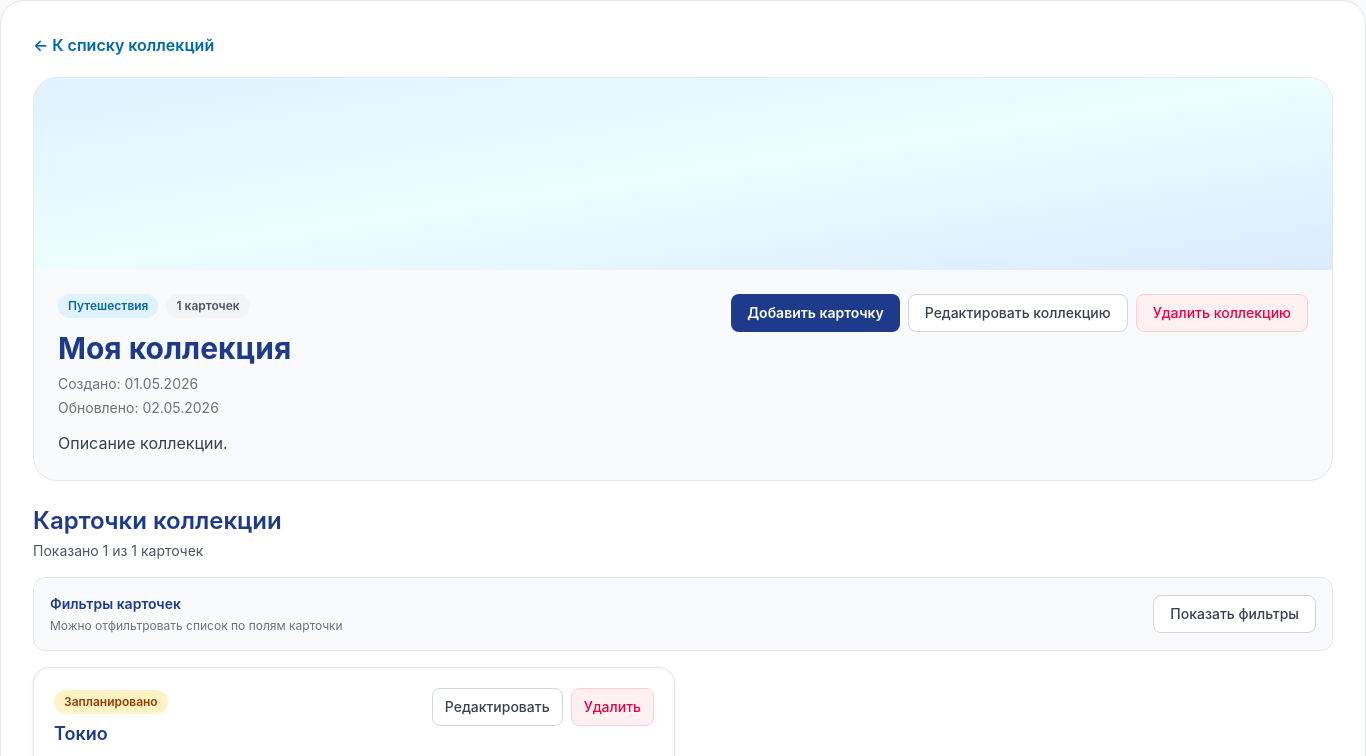
Test: CollectionDetailPage › deletes entry after confirmation and refreshes queries
expect the heading "Моя коллекция" is shown: met, box [58,330,291,366]
Click the button "Удалить" at (612, 707), box [571,688,654,726]
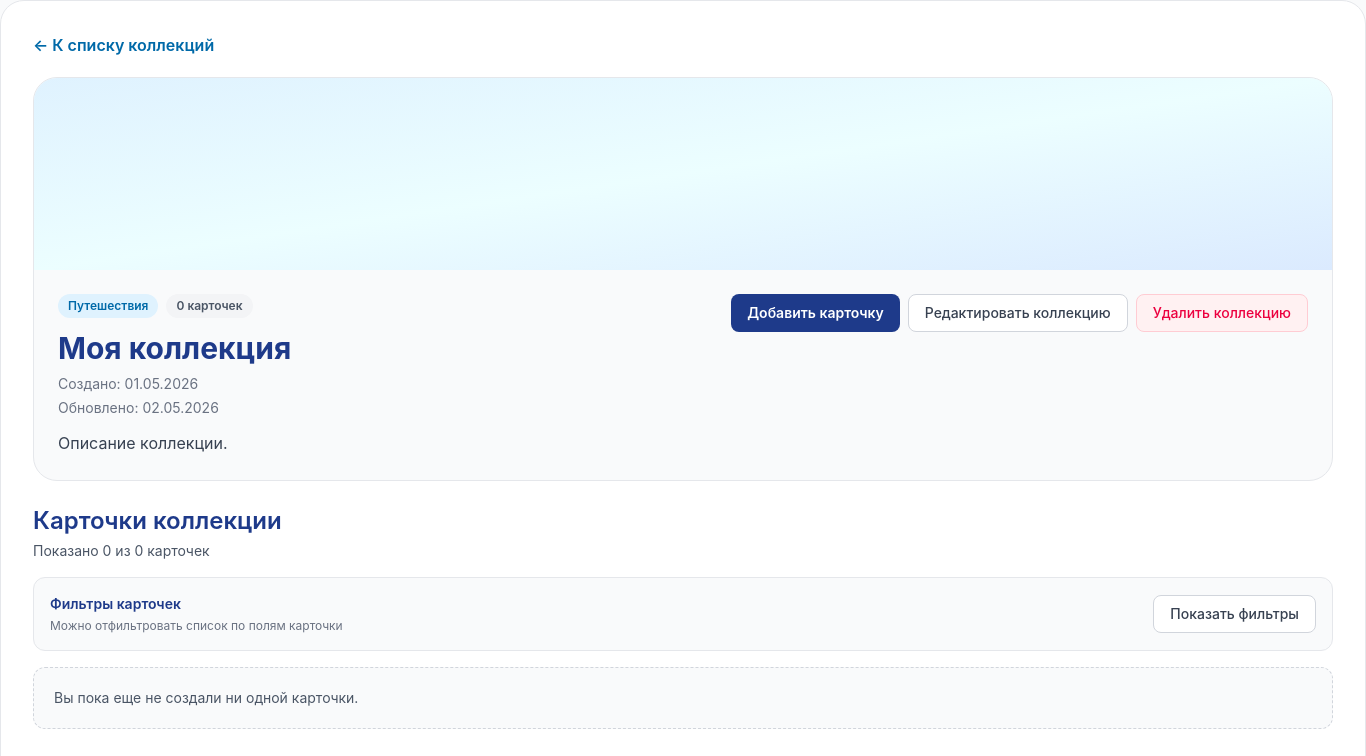
expect the text "0 карточек" is shown: met, box [166,294,252,318]
